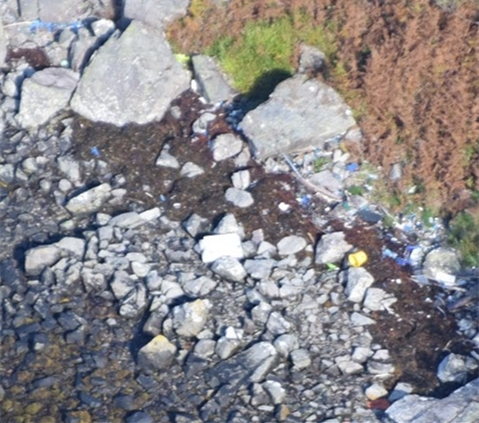together_barrel: (10, 11, 119, 70), (181, 79, 243, 142)
white_in_green: (283, 146, 474, 305), (176, 208, 262, 283), (324, 228, 393, 289)
